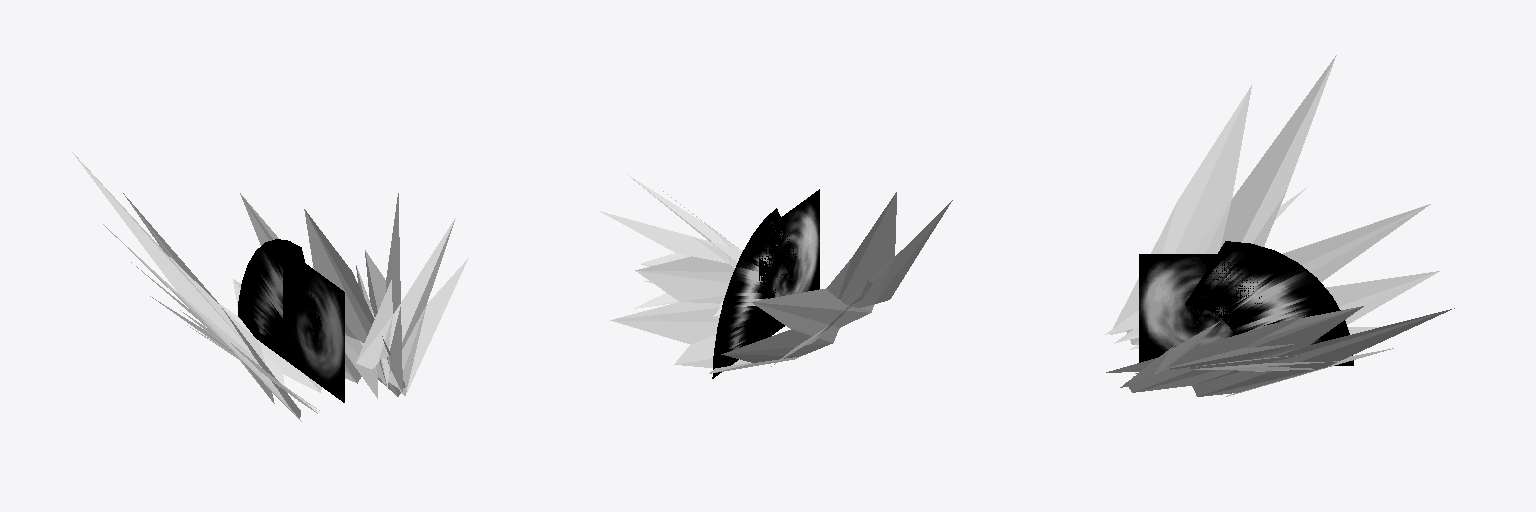
The picture shows the model from 3 angles: view 1: azimuth 30°, elevation 25°; view 2: azimuth 150°, elevation 25°; view 3: azimuth 270°, elevation 25°; orthographic projection.
Parts seen in each view (by area): view 1: polygon0, polygon4, polygon1, polygon3, polygon2; view 2: polygon1, polygon0, polygon4, polygon2, polygon3; view 3: polygon0, polygon1, polygon2, polygon4, polygon3.
Boxes of the visible parts, <box> form: polygon0: <box>72,152,468,421</box>; polygon4: <box>283,247,344,402</box>; polygon1: <box>123,193,405,418</box>; polygon3: <box>131,193,402,414</box>; polygon2: <box>238,239,321,357</box>; polygon1: <box>610,256,874,373</box>; polygon0: <box>627,174,952,307</box>; polygon4: <box>759,189,819,336</box>; polygon2: <box>712,208,796,378</box>; polygon3: <box>600,211,872,366</box>; polygon0: <box>1110,55,1336,387</box>; polygon1: <box>1126,204,1454,396</box>; polygon2: <box>1185,241,1353,365</box>; polygon4: <box>1139,254,1261,362</box>; polygon3: <box>1105,187,1339,376</box>.
Bounding box in the file's own units: 19.3 × 13.42 × 17.07.
5 materials, 2 textured.